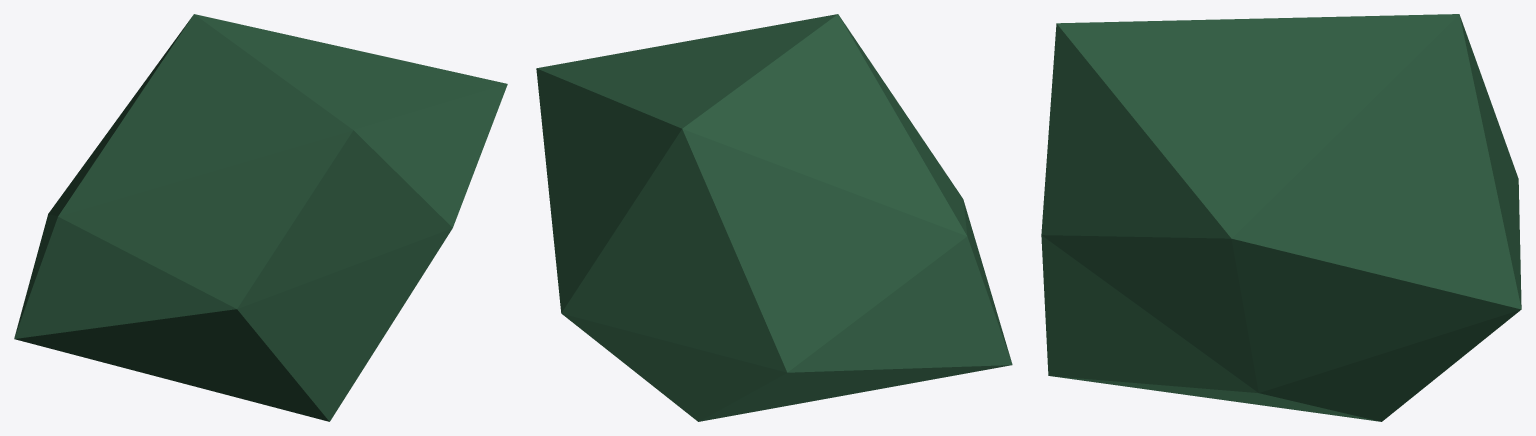
Rendered from boulder.glb.
The picture shows the model from 3 angles, left to right: view 1: azimuth 30°, elevation 25°; view 2: azimuth 150°, elevation 25°; view 3: azimuth 270°, elevation 25°; orthographic projection. The views are drawn at different scales.
Parts seen in each view (by area): view 1: Boulder; view 2: Boulder; view 3: Boulder.
Boxes of the visible parts, box(x1,y1,x2,y2) form: Boulder: box(14, 14, 507, 421); Boulder: box(536, 14, 1012, 421); Boulder: box(1041, 14, 1521, 421).
Size of the model in its own units: 0.9837 by 0.605 by 0.6601.
